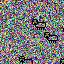sheep: (31, 18, 46, 31), (44, 31, 59, 44), (19, 55, 33, 64)
